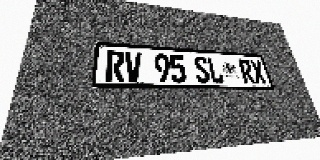5: (169, 54, 187, 83)
9: (154, 53, 172, 83)
L: (206, 57, 225, 83)
R: (106, 50, 124, 82), (238, 59, 256, 84)
S: (193, 56, 211, 83)
V: (125, 52, 142, 82)
X: (249, 60, 267, 84)
